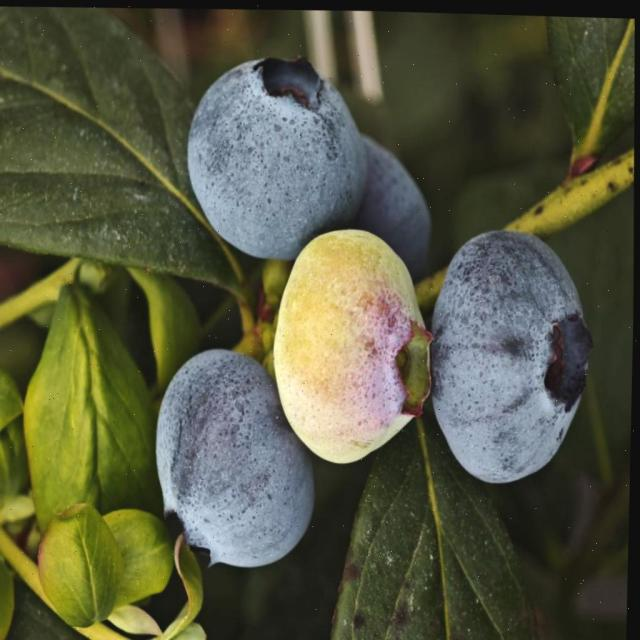RipeBlueBerry: (179, 43, 367, 263), (430, 222, 584, 482), (156, 347, 316, 573)
Semi-RipeBlueBerry: (272, 221, 434, 459)
